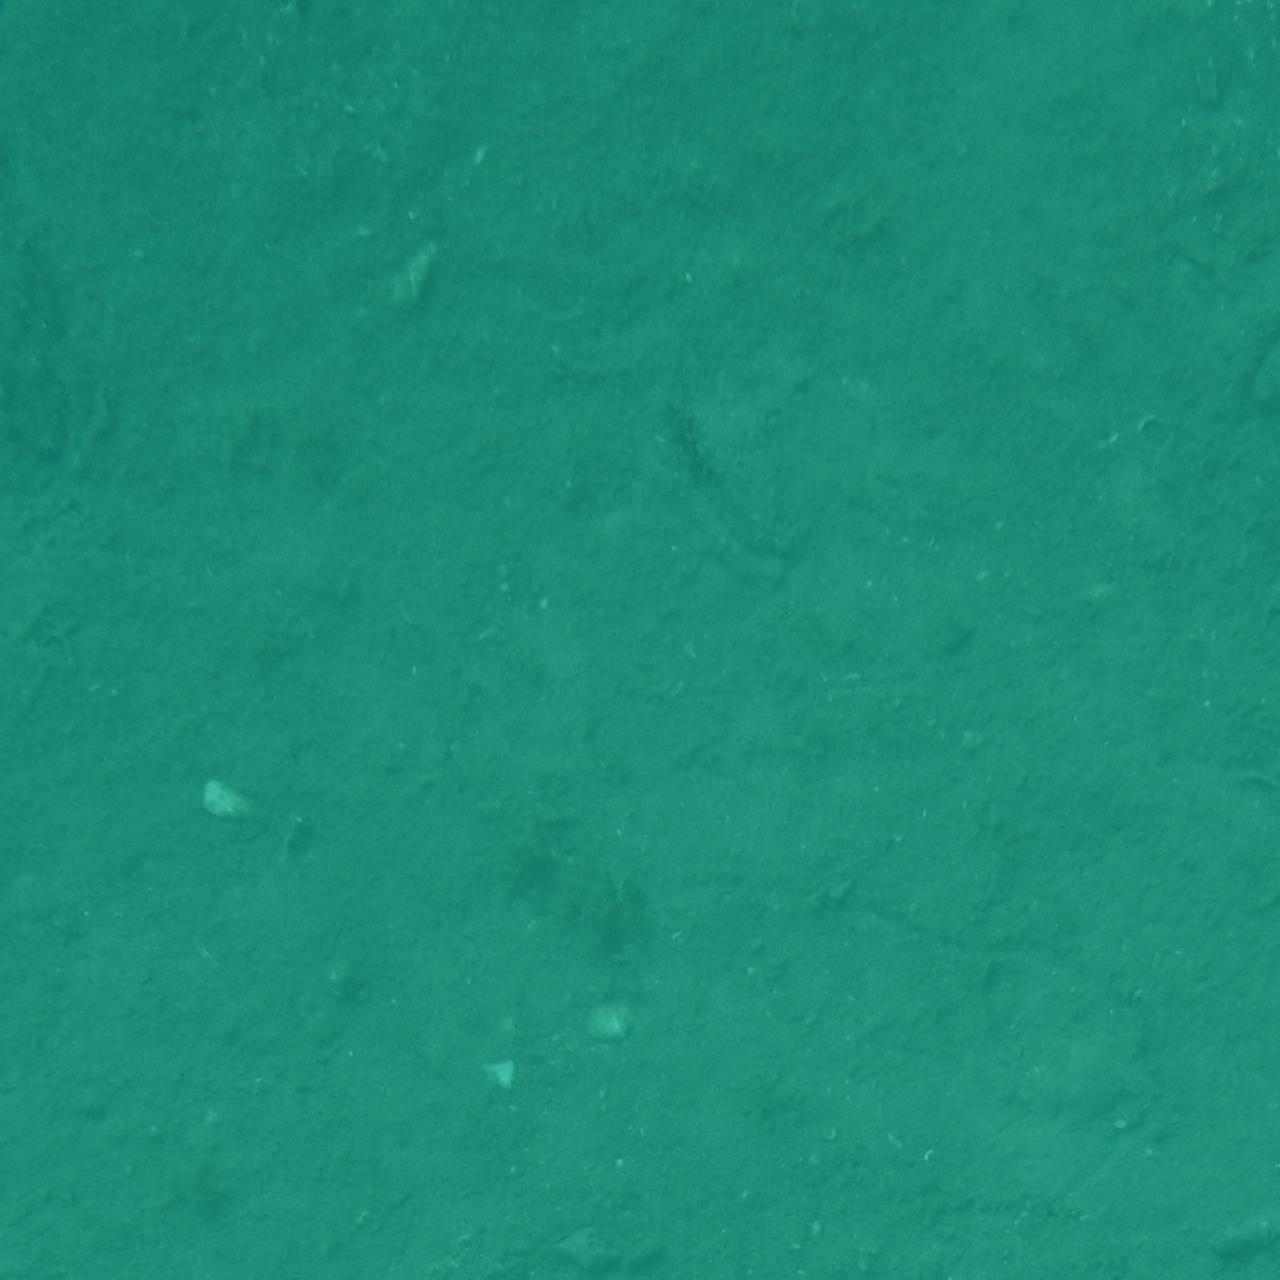Holothuria tubulosa: (307, 1173, 619, 1280), (1126, 199, 1280, 415), (0, 874, 170, 978), (731, 0, 864, 116), (983, 1232, 1280, 1280), (1207, 0, 1280, 172), (1185, 1177, 1280, 1280), (1221, 1163, 1280, 1280)
